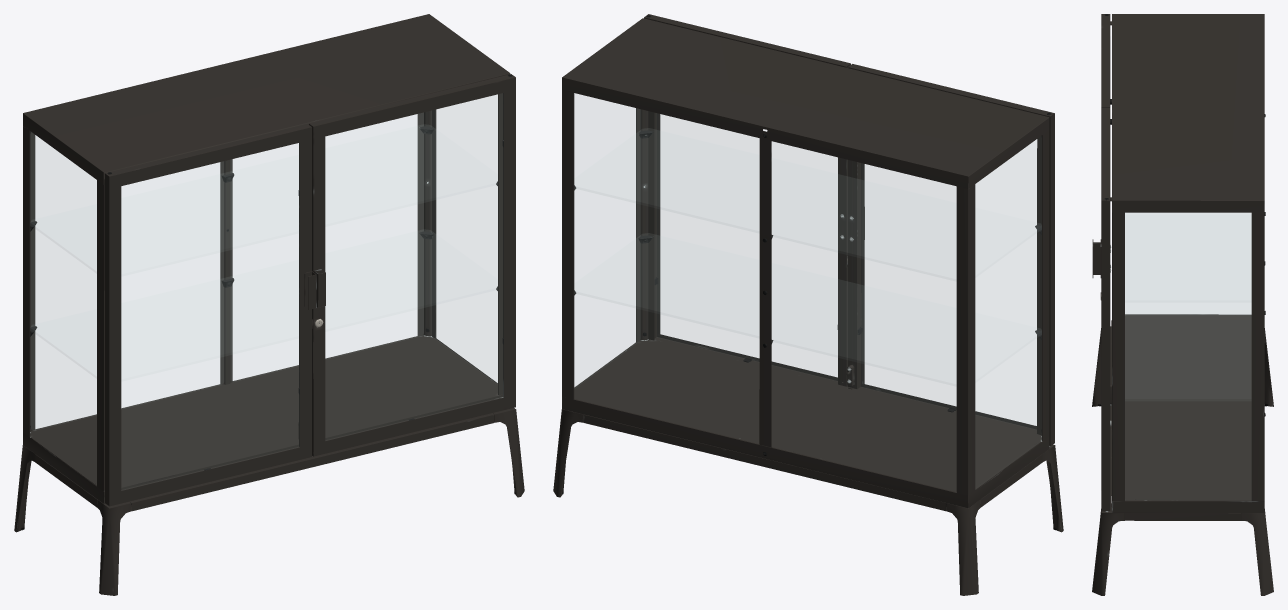
File: 16 - MILSBO Glass-door cabinet - anthracite 101x100 cm.glb
3 renders of one model, left to right at view 1: azimuth 30°, elevation 25°; view 2: azimuth 150°, elevation 25°; view 3: azimuth 270°, elevation 25°, orthographic. The views are drawn at different scales.
Parts seen in each view (by area): view 1: Mesh_0, Mesh_1; view 2: Mesh_0, Mesh_1; view 3: Mesh_0, Mesh_1.
Boxes of the visible parts, box(x1,y1,x2,y2) form: Mesh_0: box(14, 14, 524, 595); Mesh_1: box(31, 95, 497, 430); Mesh_0: box(553, 14, 1063, 595); Mesh_1: box(574, 94, 1041, 429); Mesh_0: box(1092, 14, 1273, 595); Mesh_1: box(1125, 213, 1251, 400).
Size of the model in its own units: 1.06 by 0.9914 by 0.4166.
Materials: 2 (1 with a texture image).
